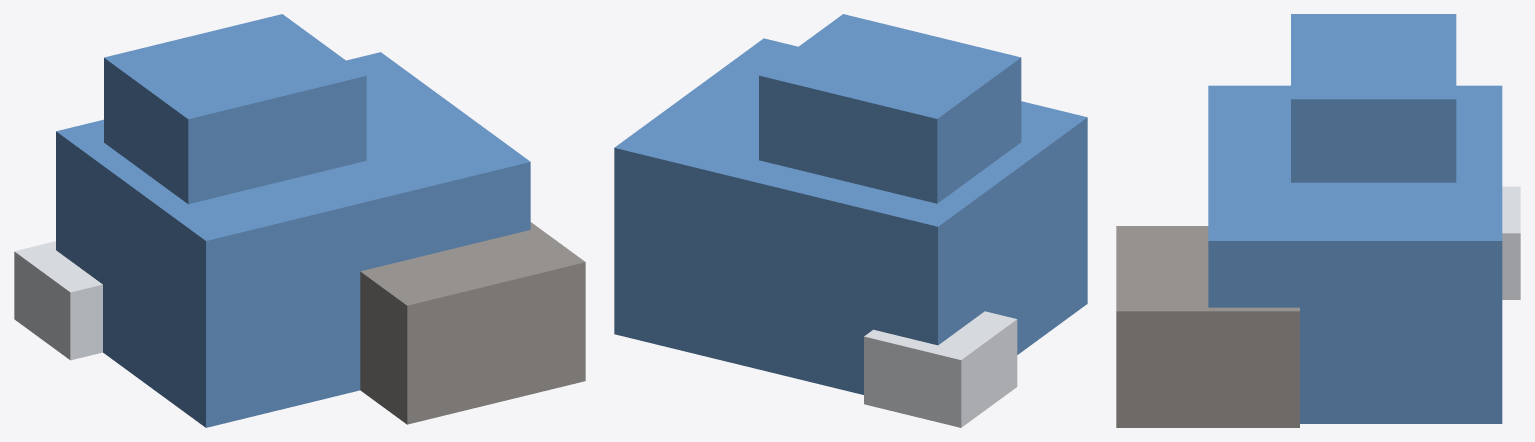
Rendered from FrostRock.glb.
3 views of the same model, side by side, from view 1: azimuth 30°, elevation 25°; view 2: azimuth 150°, elevation 25°; view 3: azimuth 270°, elevation 25° (orthographic). The views are drawn at different scales.
Visible parts, largest first — view 1: FrostRock; view 2: FrostRock; view 3: FrostRock.
Boxes of the visible parts, <box> form: FrostRock: <box>14,14,585,427</box>; FrostRock: <box>614,14,1087,427</box>; FrostRock: <box>1116,14,1520,427</box>.
Size of the model in its own units: 2.25 by 1.6 by 2.2.
Materials: 1 (1 with a texture image).
